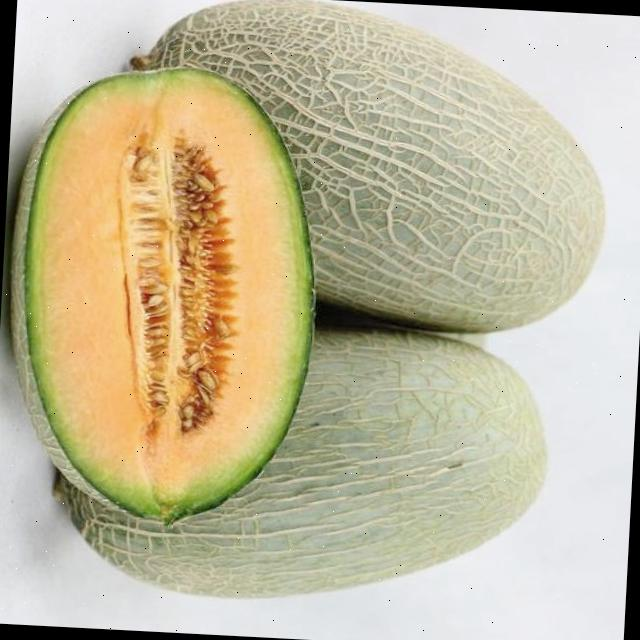Hami Melon: (122, 0, 617, 343), (0, 63, 322, 531), (57, 314, 554, 614)
